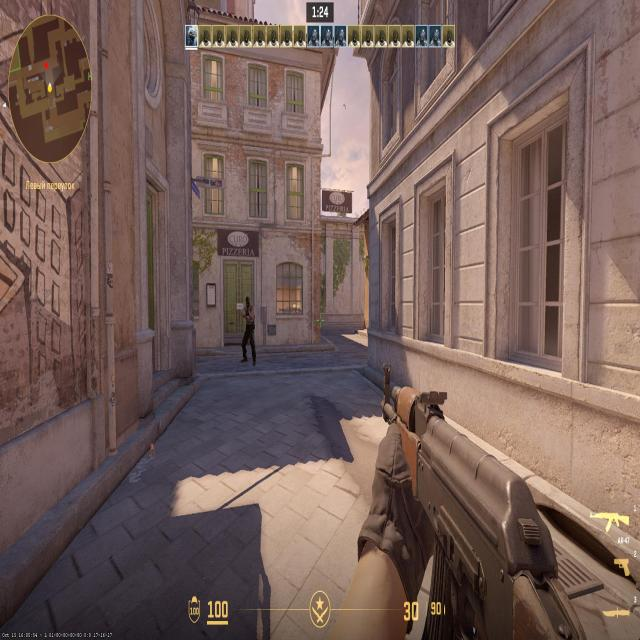T: (244, 294, 258, 360)
T_heat: (245, 296, 250, 312)
